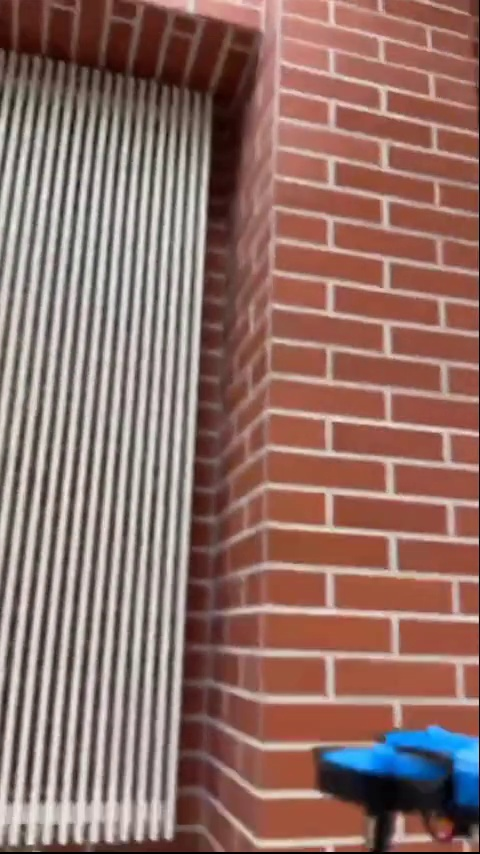drone: (317, 726, 480, 843)
